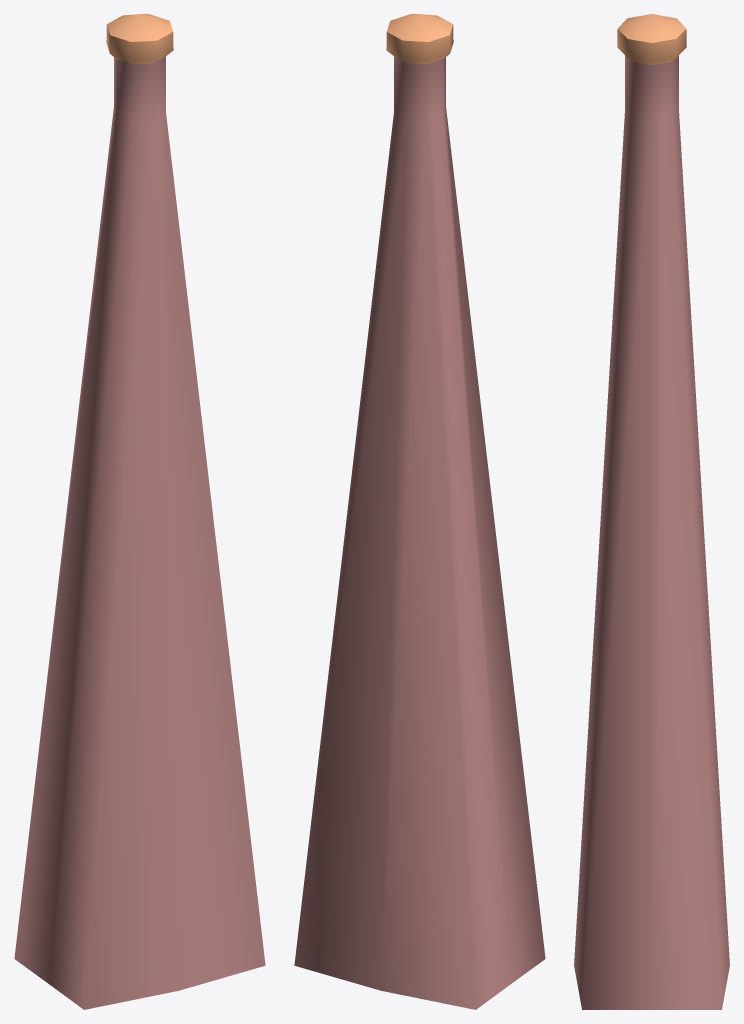
The model's file is BAR_LiqourBottle05_Body.fbx.
The picture shows the model from 3 angles, left to right: view 1: azimuth 30°, elevation 25°; view 2: azimuth 150°, elevation 25°; view 3: azimuth 270°, elevation 25°; orthographic projection.
Visible parts, largest first — view 1: Bottle05_Body; view 2: Bottle05_Body; view 3: Bottle05_Body.
Part boxes in pixels (x1=…): Bottle05_Body: x1=14, y1=14, x2=265, y2=1009; Bottle05_Body: x1=294, y1=14, x2=545, y2=1009; Bottle05_Body: x1=574, y1=14, x2=729, y2=1009.
Size of the model in its own units: 7.74 by 38.64 by 5.74.
